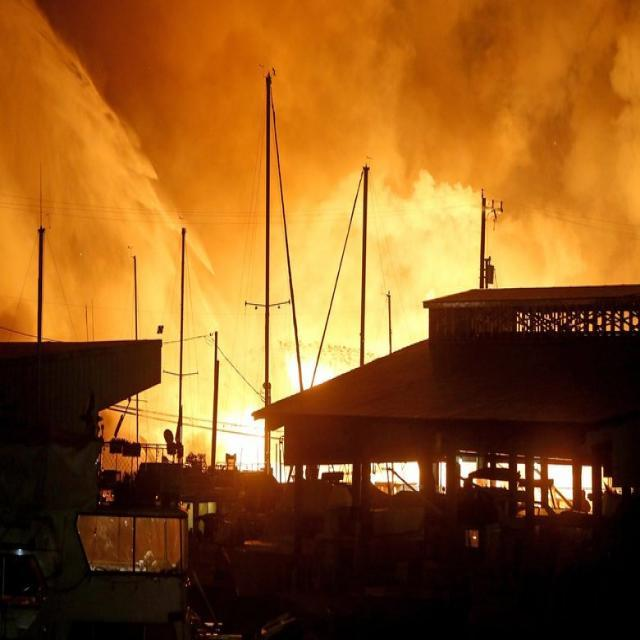Fire: (220, 172, 575, 524)
Smoke: (219, 3, 640, 170)
